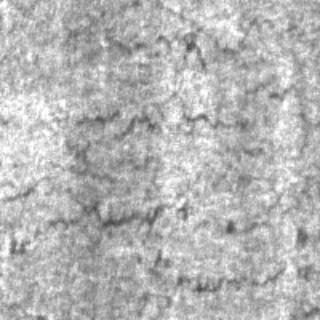crazing: (0, 102, 274, 248), (59, 13, 299, 133), (66, 197, 290, 293)
